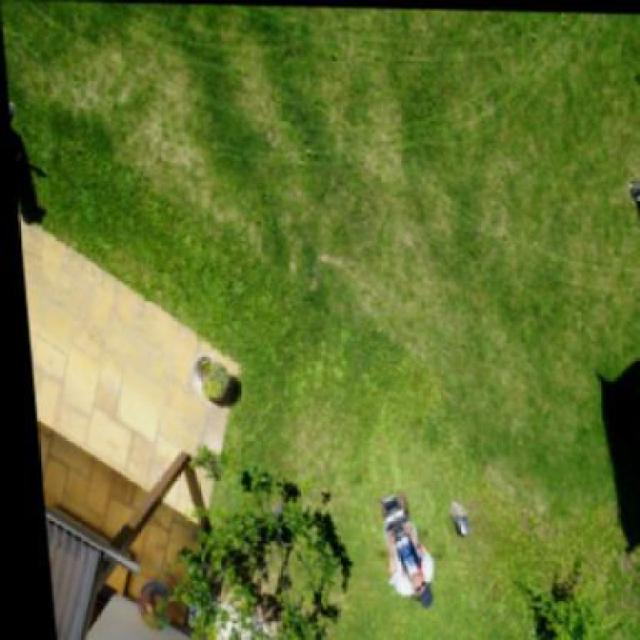Person: (368, 516, 435, 612)
